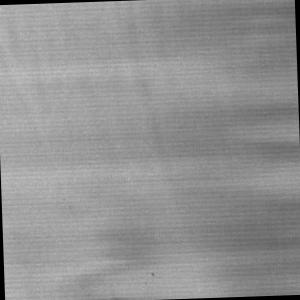Wrinkle: (211, 1, 300, 298)
